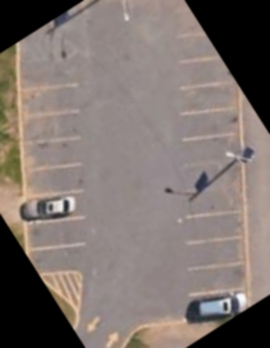parkingspot: (168, 0, 254, 325), (14, 79, 95, 279)
